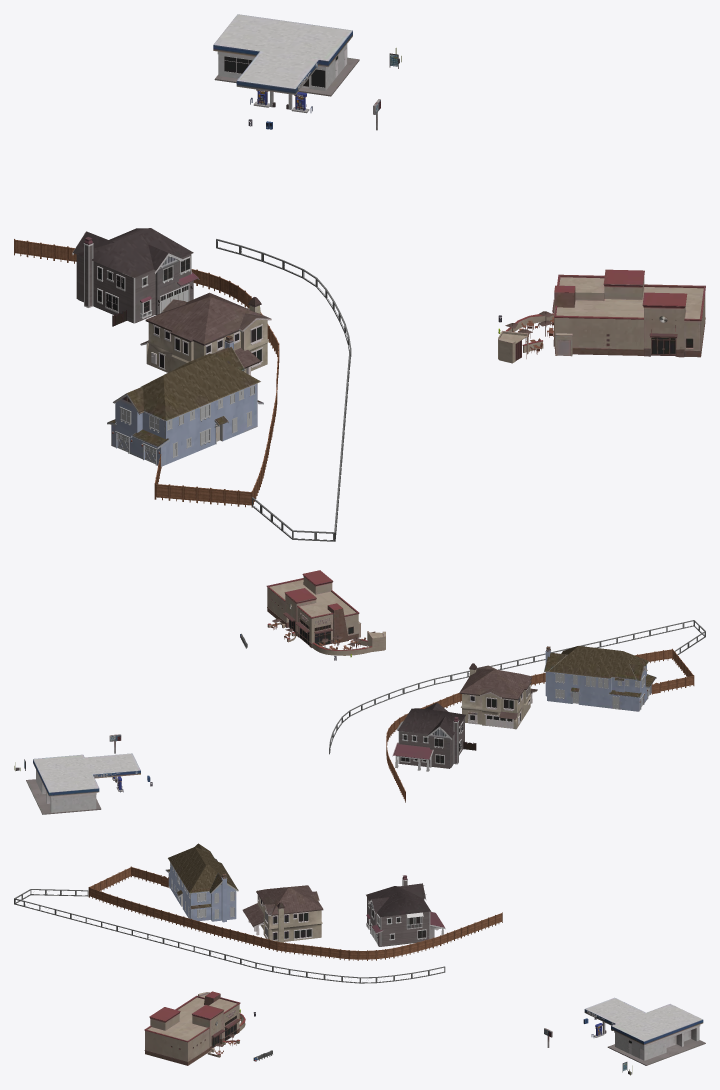
Rendered from yale-tile_0_0.lod3.glb.
The picture shows the model from 3 angles, top to bottom: view 1: azimuth 30°, elevation 25°; view 2: azimuth 150°, elevation 25°; view 3: azimuth 270°, elevation 25°; orthographic projection. The views are drawn at different scales.
Parts seen in each view (by area): view 1: 2301_16570_Building_20_StaticMeshComponent0, 2300_16570_building_26_model_25_StaticMeshComponent0, Building_25_2300_16570_StaticMeshComponent0, Building_23_2300_16570_StaticMeshComponent0, Building_24_2300_16570_StaticMeshComponent0, Stnfrd_Ave_Wood_Fence_18_StaticMeshComponent0, Stnfrd_Ave_Front_Fence_20_StaticMeshComponent0; view 2: 2301_16570_Building_20_StaticMeshComponent0, 2300_16570_building_26_model_25_StaticMeshComponent0, Building_25_2300_16570_StaticMeshComponent0, Building_23_2300_16570_StaticMeshComponent0, Building_24_2300_16570_StaticMeshComponent0, Stnfrd_Ave_Wood_Fence_18_StaticMeshComponent0, Stnfrd_Ave_Front_Fence_20_StaticMeshComponent0; view 3: Building_25_2300_16570_StaticMeshComponent0, 2301_16570_Building_20_StaticMeshComponent0, Stnfrd_Ave_Wood_Fence_18_StaticMeshComponent0, 2300_16570_building_26_model_25_StaticMeshComponent0, Building_23_2300_16570_StaticMeshComponent0, Building_24_2300_16570_StaticMeshComponent0, Stnfrd_Ave_Front_Fence_20_StaticMeshComponent0.
Boxes of the visible parts, x1,y1,x2,y2 form: 2301_16570_Building_20_StaticMeshComponent0: (498,269,705,363); 2300_16570_building_26_model_25_StaticMeshComponent0: (107,335,263,466); Building_25_2300_16570_StaticMeshComponent0: (213,14,401,130); Building_23_2300_16570_StaticMeshComponent0: (72,228,199,326); Building_24_2300_16570_StaticMeshComponent0: (140,292,271,375); Stnfrd_Ave_Wood_Fence_18_StaticMeshComponent0: (14,239,279,507); Stnfrd_Ave_Front_Fence_20_StaticMeshComponent0: (216,239,351,541); 2301_16570_Building_20_StaticMeshComponent0: (266,570,385,655); 2300_16570_building_26_model_25_StaticMeshComponent0: (544,646,656,711); Building_25_2300_16570_StaticMeshComponent0: (14,734,140,814); Building_23_2300_16570_StaticMeshComponent0: (392,702,476,771); Building_24_2300_16570_StaticMeshComponent0: (459,663,537,729); Stnfrd_Ave_Wood_Fence_18_StaticMeshComponent0: (386,648,694,802); Stnfrd_Ave_Front_Fence_20_StaticMeshComponent0: (329,620,705,754); Building_25_2300_16570_StaticMeshComponent0: (544,997,705,1075); 2301_16570_Building_20_StaticMeshComponent0: (144,991,245,1065); Stnfrd_Ave_Wood_Fence_18_StaticMeshComponent0: (88,866,502,960); 2300_16570_building_26_model_25_StaticMeshComponent0: (165,843,238,922); Building_23_2300_16570_StaticMeshComponent0: (366,875,445,946); Building_24_2300_16570_StaticMeshComponent0: (242,885,323,942); Stnfrd_Ave_Front_Fence_20_StaticMeshComponent0: (14,889,445,983).
Bounding box in the file's own units: 94.05 × 10.86 × 137.
17 materials, 17 textured.
